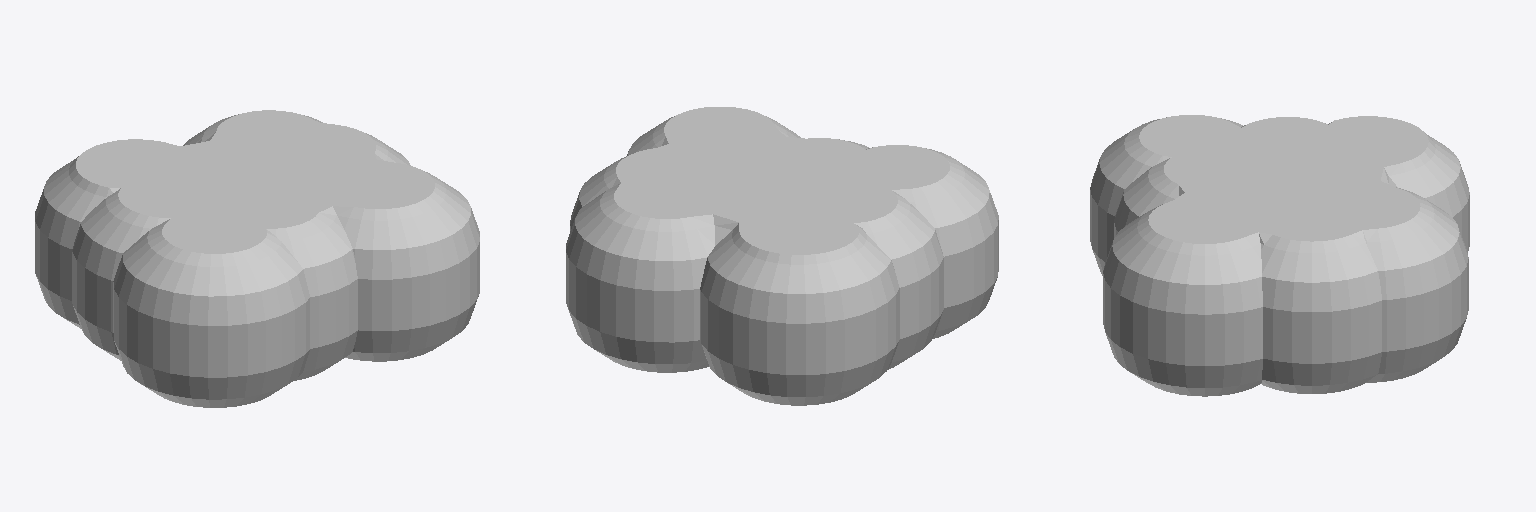
The model's file is moveFloor.obj.
3 renders of one model, left to right at view 1: azimuth 30°, elevation 25°; view 2: azimuth 150°, elevation 25°; view 3: azimuth 270°, elevation 25°, orthographic.
Visible parts, largest first — view 1: 円柱.004; view 2: 円柱.004; view 3: 円柱.004.
Part boxes in pixels (x1,y1,x2,y2): 円柱.004: (35,110,479,407); 円柱.004: (566,107,998,405); 円柱.004: (1090,115,1469,396).
Bounding box in the file's own units: 2.79 × 1.19 × 2.64.